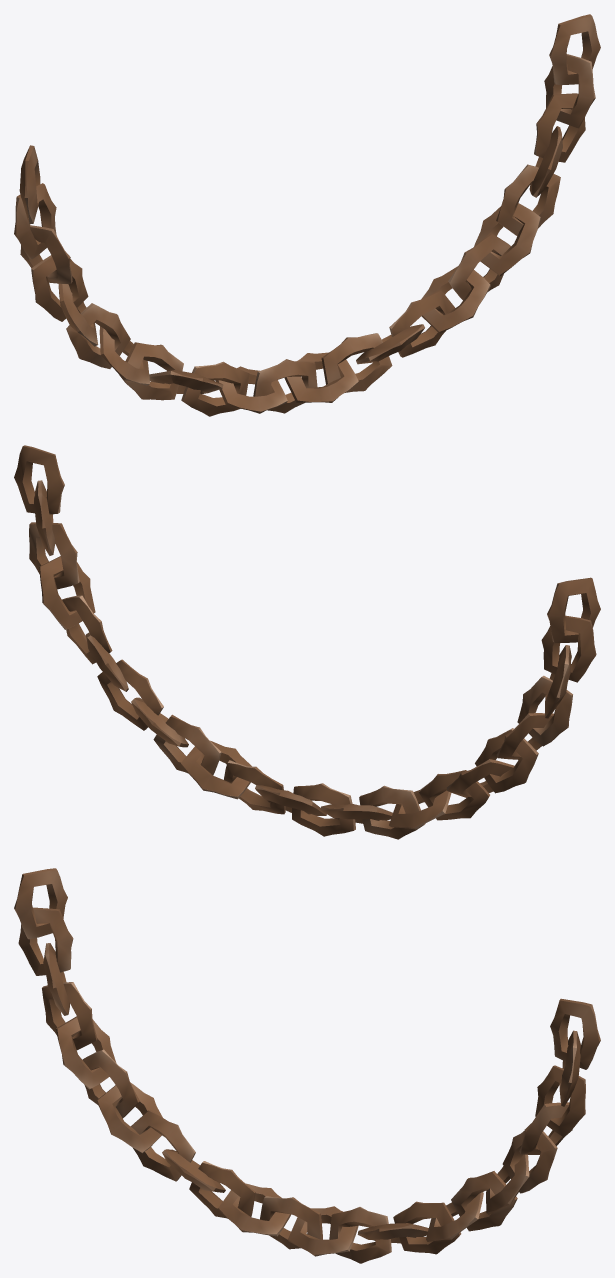
The model's file is SM_Potion_Props_Chain_B_03.fbx.
The picture shows the model from 3 angles, top to bottom: view 1: azimuth 30°, elevation 25°; view 2: azimuth 150°, elevation 25°; view 3: azimuth 330°, elevation 25°; orthographic projection.
Parts seen in each view (by area): view 1: SM_Potion_Props_Chain_B_03_LOD0; view 2: SM_Potion_Props_Chain_B_03_LOD0; view 3: SM_Potion_Props_Chain_B_03_LOD0.
Part boxes in pixels (box(x1,y1,x2,y2)): SM_Potion_Props_Chain_B_03_LOD0: box(14, 14, 600, 416); SM_Potion_Props_Chain_B_03_LOD0: box(14, 445, 600, 839); SM_Potion_Props_Chain_B_03_LOD0: box(14, 868, 600, 1263).
Size of what is drawn, in the model's own units: 130 by 67.94 by 9.99.
